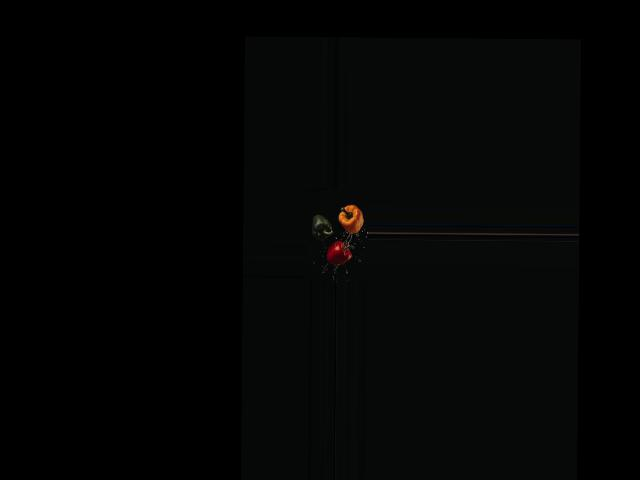bell_pepper: (321, 236, 358, 265)
